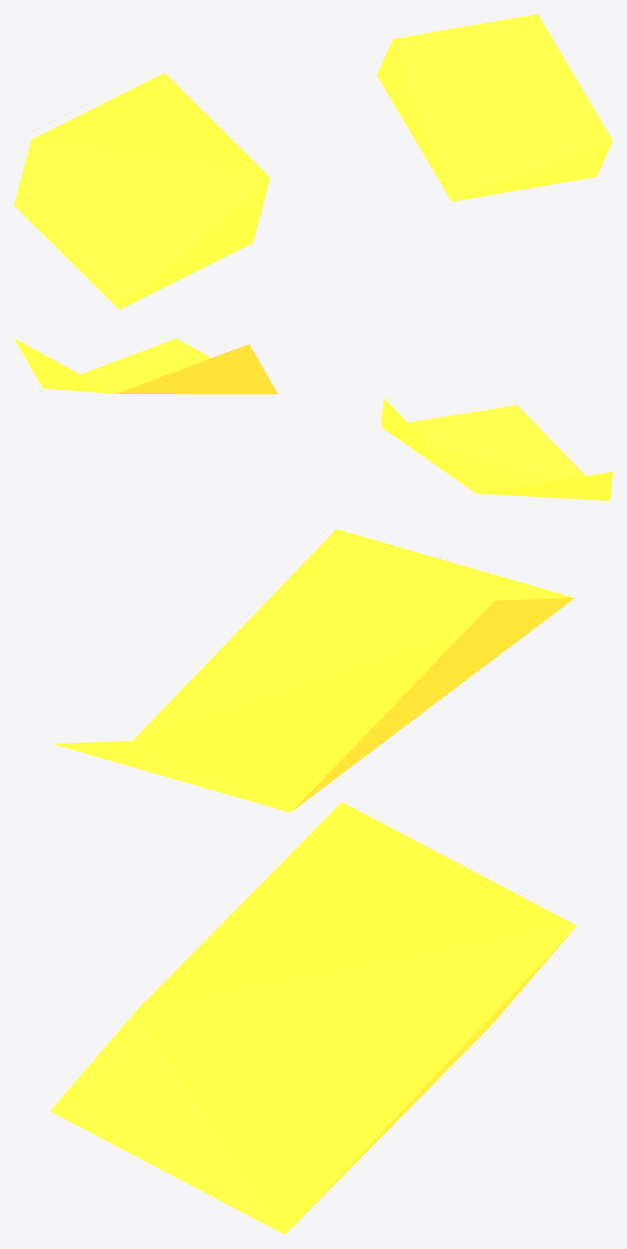
The model's file is CandleLight_sconcesTorch_02.fbx.
3 views of the same model, one above another, from view 1: azimuth 30°, elevation 25°; view 2: azimuth 150°, elevation 25°; view 3: azimuth 270°, elevation 25° (orthographic). The views are drawn at different scales.
Visible parts, largest first — view 1: CandleLight_sconcesTorch_02; view 2: CandleLight_sconcesTorch_02; view 3: CandleLight_sconcesTorch_02.
Boxes of the visible parts, x1,y1,x2,y2 form: CandleLight_sconcesTorch_02: [14, 14, 612, 309]; CandleLight_sconcesTorch_02: [14, 338, 612, 500]; CandleLight_sconcesTorch_02: [50, 529, 576, 1234].
Size of the model in its own units: 233 by 52 by 91.01.
